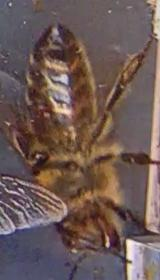varroa_mite: (31, 103, 54, 122)
